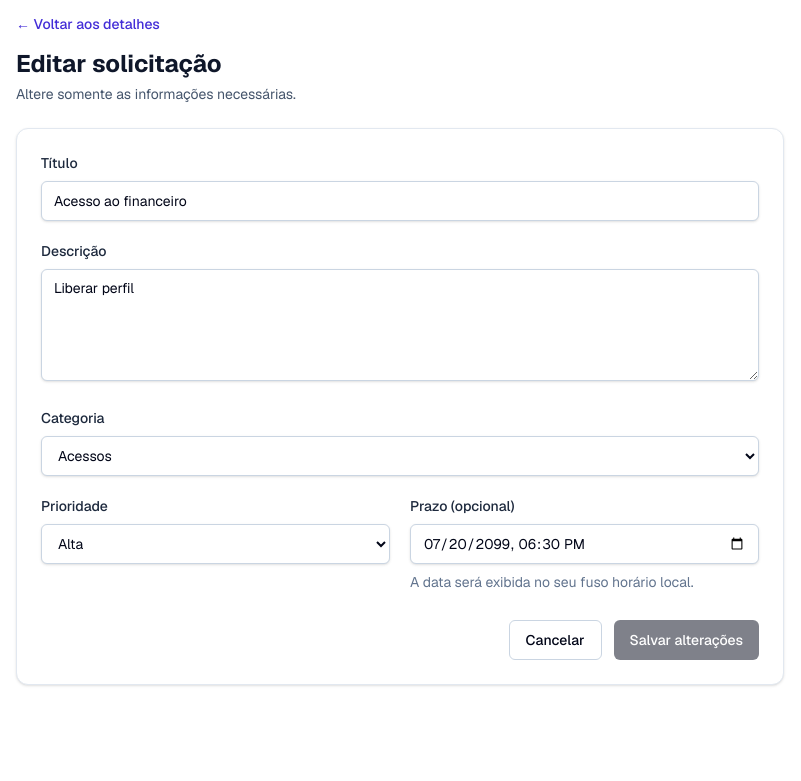
Test: edição de solicitação › atualiza caches, mostra sucesso e retorna ao detalhe
Replace the text in the field labelled "Título" with "Título atualizado" at (400, 201), box [41,181,759,221]
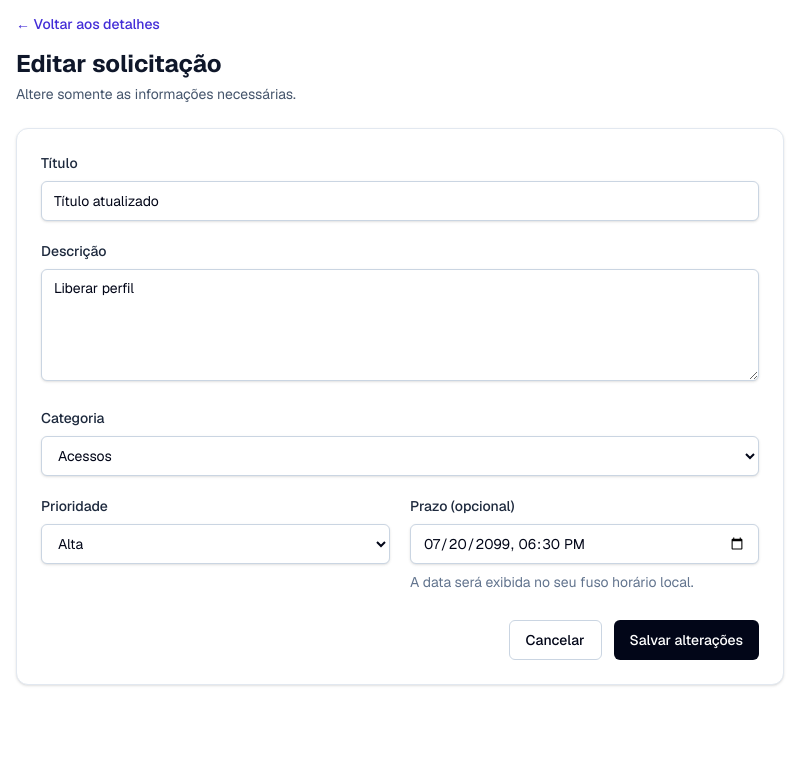
Click the button "Salvar alterações" at (686, 640), box [614,620,759,660]
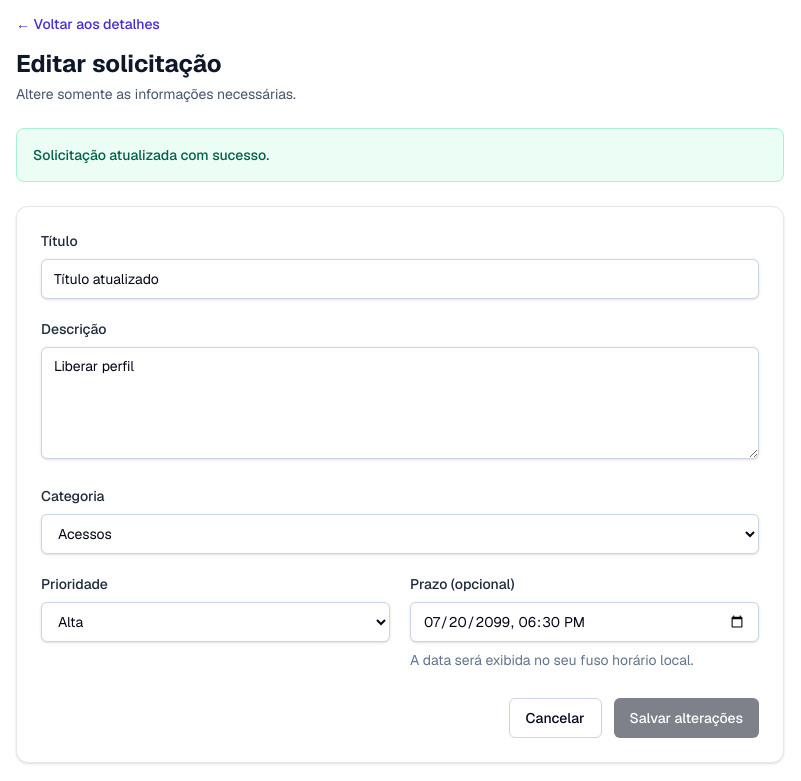
Expected: the text "Solicitação atualizada com sucesso." is shown, [16,128,784,182]
